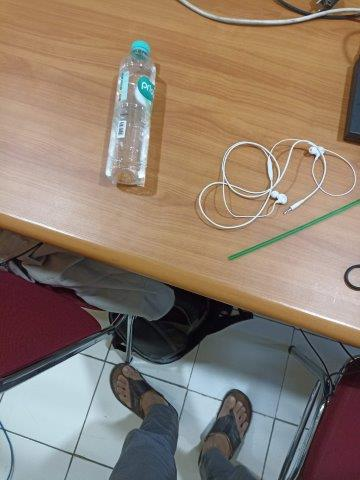botolplastik: (105, 39, 156, 184)
